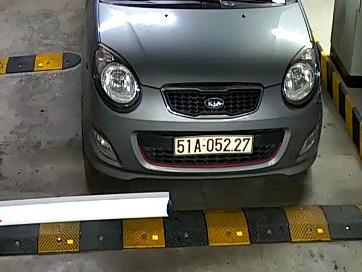number: (173, 134, 254, 157)
